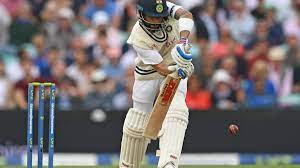bottom left: (139, 130, 149, 139)
bottom right: (153, 134, 161, 144)
top left: (165, 72, 173, 80)
top right: (176, 75, 185, 84)
